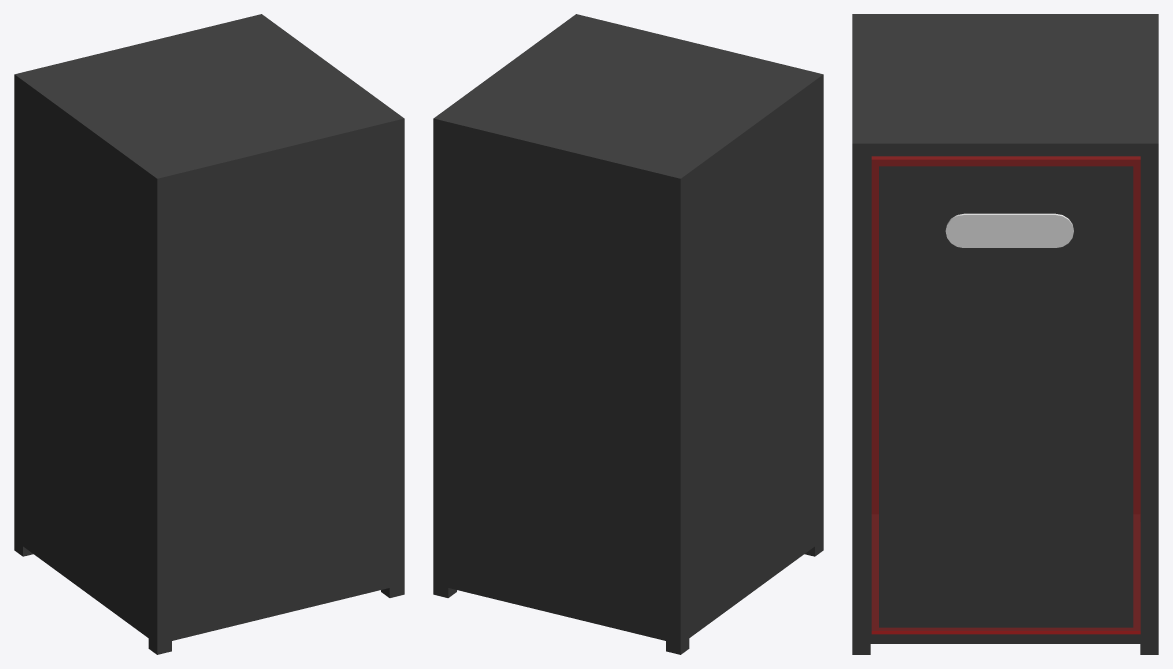
File: Mueble2.obj
3 renders of one model, left to right at view 1: azimuth 30°, elevation 25°; view 2: azimuth 150°, elevation 25°; view 3: azimuth 270°, elevation 25°, orthographic. The views are drawn at different scales.
Parts seen in each view (by area): view 1: Sólido1; view 2: Sólido1; view 3: Sólido1.
Part boxes in pixels (left/top/right/bottom): Sólido1: left=14, top=14, right=404, bottom=654; Sólido1: left=433, top=14, right=823, bottom=654; Sólido1: left=852, top=14, right=1158, bottom=654.
Bounding box in the file's own units: 517 × 920 × 500.
